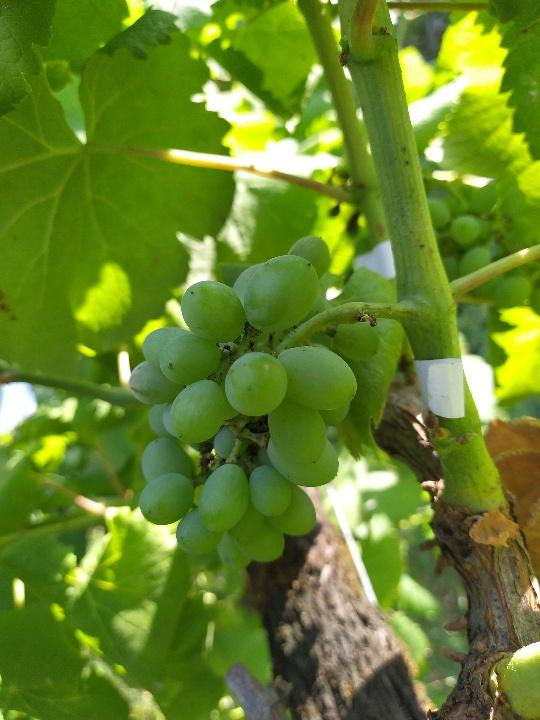grape: (119, 232, 378, 573)
